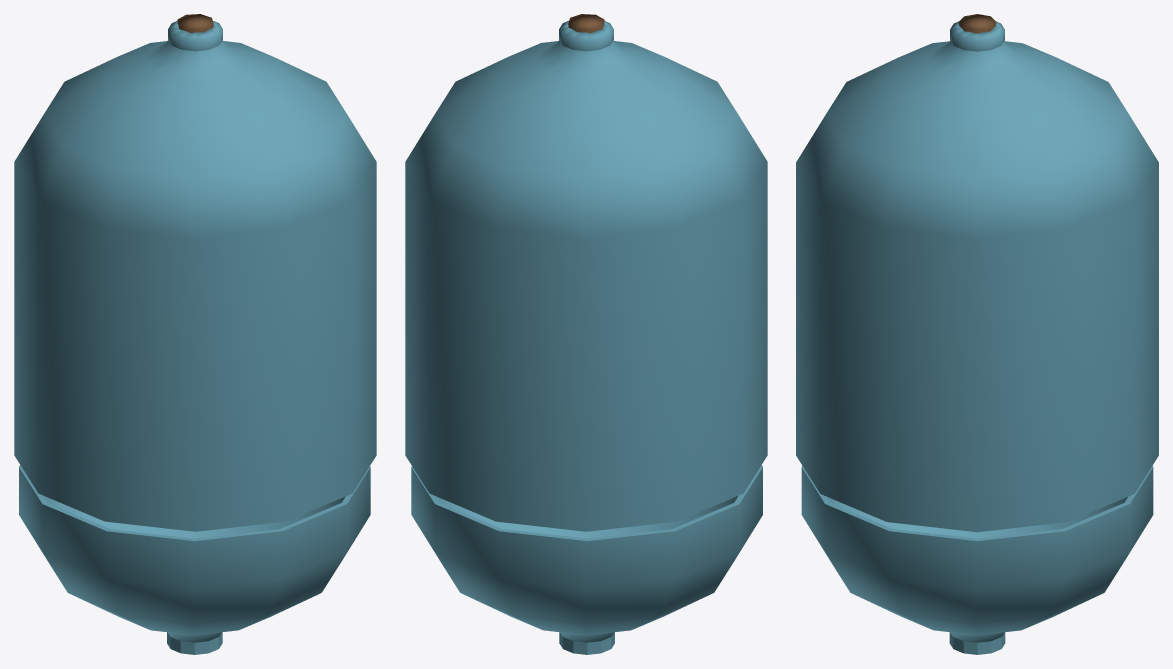
File: lungbox1.fbx
3 views of the same model, side by side, from view 1: azimuth 30°, elevation 25°; view 2: azimuth 150°, elevation 25°; view 3: azimuth 270°, elevation 25° (orthographic).
Visible parts, largest first — view 1: GLASS1, GLASS_CUP1, CAP1; view 2: GLASS1, GLASS_CUP1, CAP1; view 3: GLASS1, GLASS_CUP1, CAP1.
Boxes of the visible parts, bbox=[...] form: GLASS1: bbox=[14, 21, 376, 531]; GLASS_CUP1: bbox=[19, 465, 370, 654]; CAP1: bbox=[177, 14, 213, 33]; GLASS1: bbox=[405, 21, 767, 531]; GLASS_CUP1: bbox=[411, 465, 762, 654]; CAP1: bbox=[568, 14, 604, 33]; GLASS1: bbox=[796, 21, 1158, 532]; GLASS_CUP1: bbox=[801, 465, 1153, 654]; CAP1: bbox=[958, 14, 996, 33].
Size of the model in its own units: 133 by 253 by 133.
